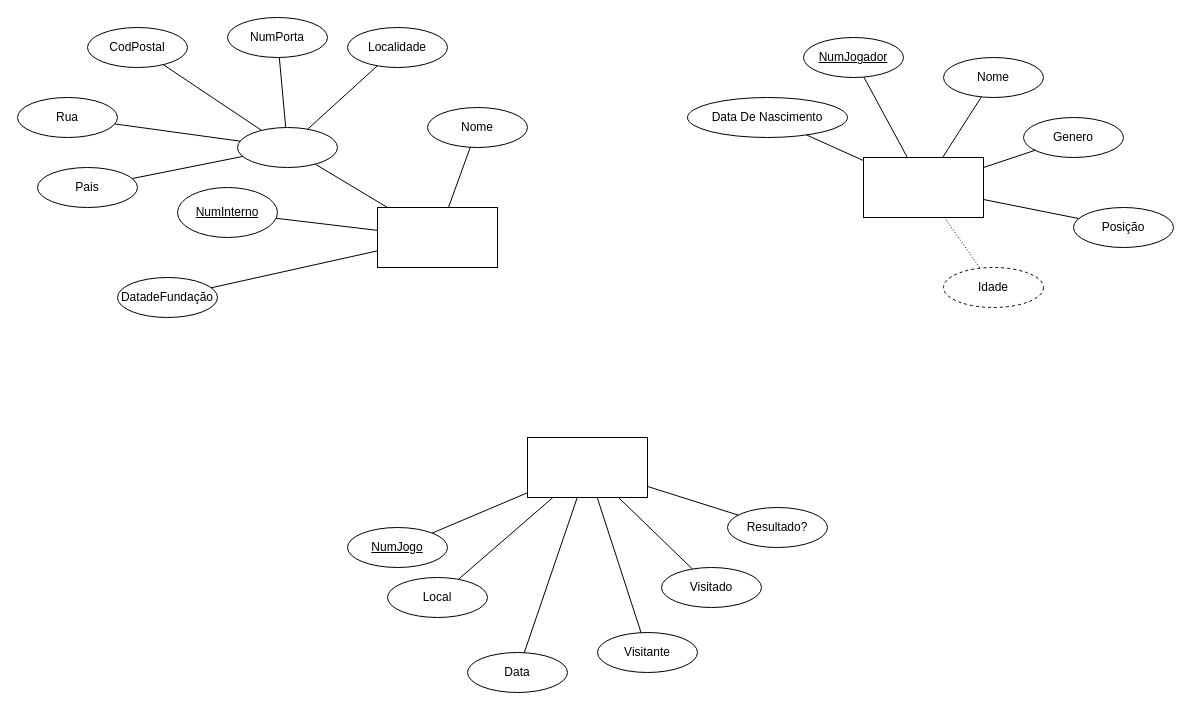
Image size: 1191x710. Some labels were removed from this diagram. Here are the shapes that lost their labels. From the top down, the centre of each, then its label:
(x=287, y=147): Morada
(x=923, y=187): JOGADOR
(x=437, y=237): EQUIPA
(x=587, y=467): JOGO
